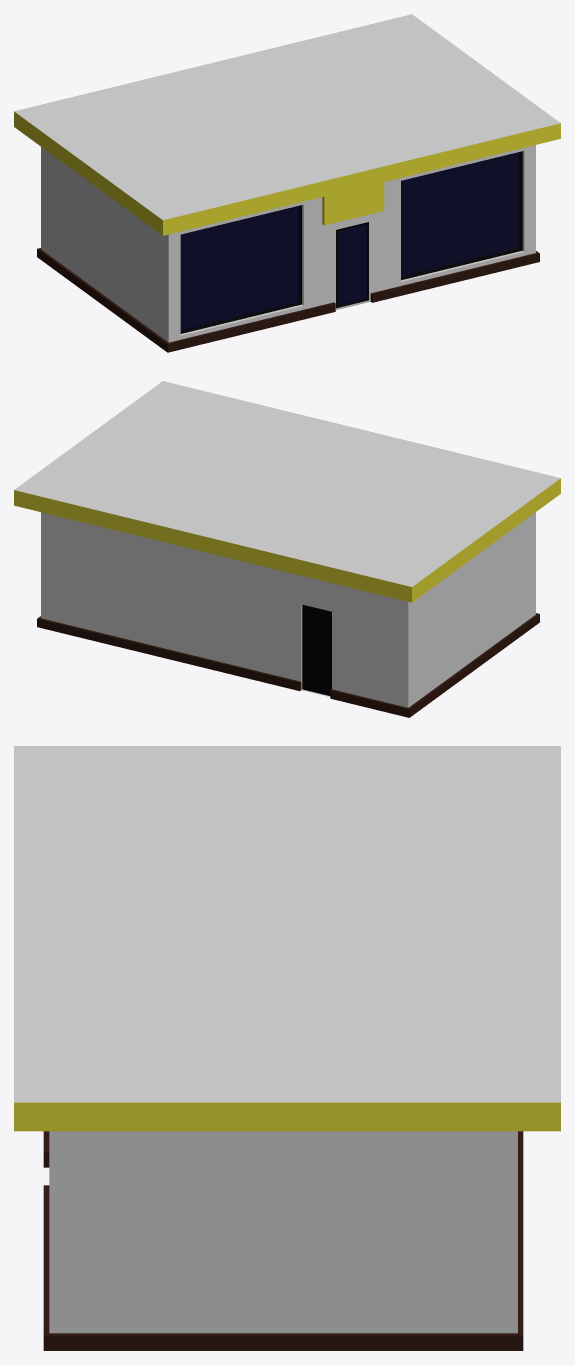
The model's file is gasStationB.fbx.
The picture shows the model from 3 angles, top to bottom: view 1: azimuth 30°, elevation 25°; view 2: azimuth 150°, elevation 25°; view 3: azimuth 270°, elevation 25°; orthographic projection. The views are drawn at different scales.
Parts seen in each view (by area): view 1: Cube; view 2: Cube; view 3: Cube.
Part boxes in pixels (x1,y1,x2,y2): Cube: [14, 14, 560, 352]; Cube: [14, 381, 560, 717]; Cube: [14, 746, 560, 1350].
Bounding box in the file's own units: 1359 × 462 × 881.
